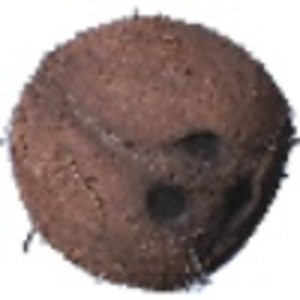coco: (1, 13, 300, 295)
